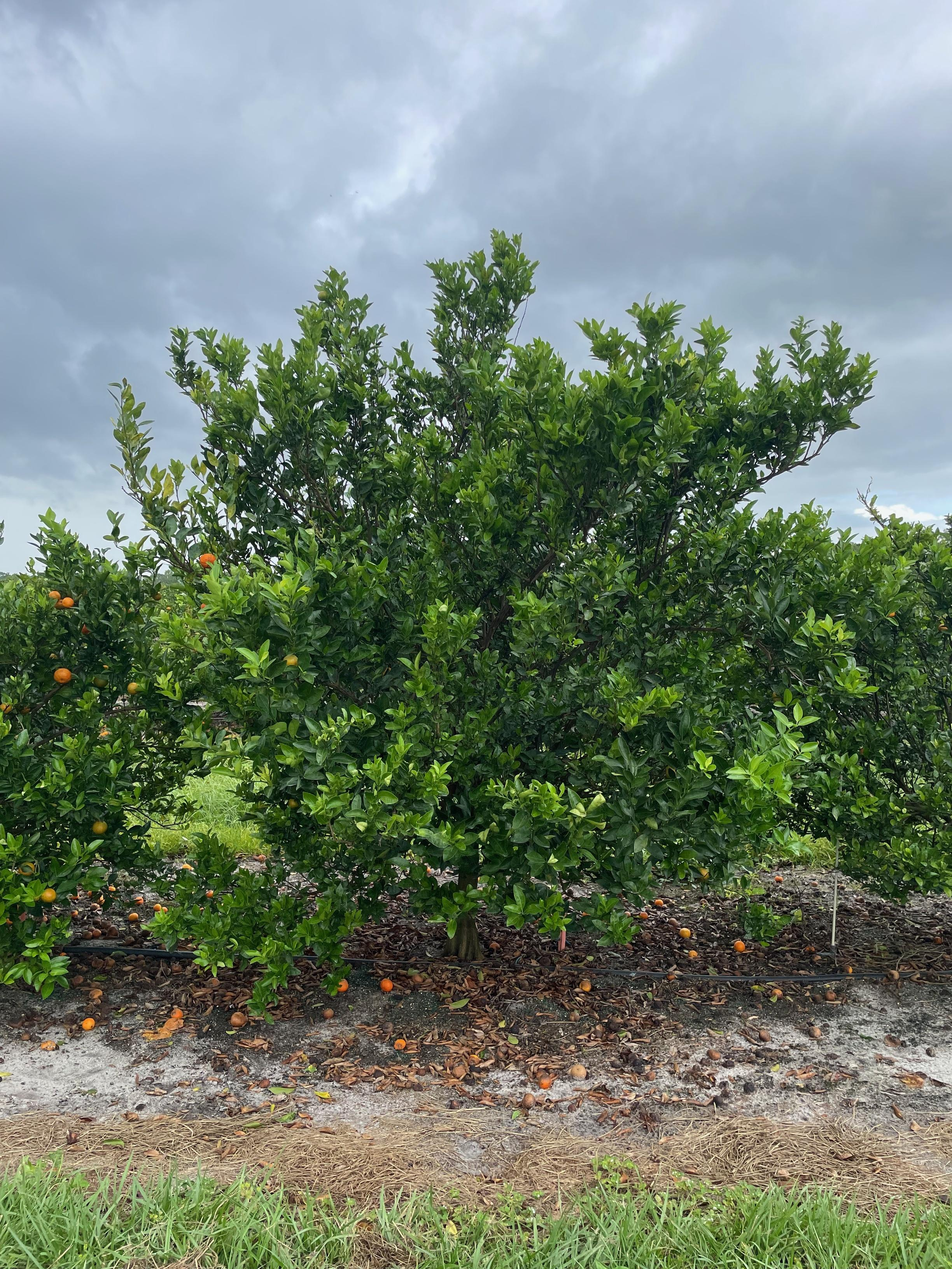fruit_on_ground: (52, 664, 74, 685), (280, 651, 301, 671), (198, 551, 219, 570), (38, 886, 58, 905), (17, 860, 37, 878), (90, 818, 109, 836), (0, 697, 17, 716), (92, 673, 110, 689), (695, 866, 711, 883), (198, 600, 214, 617), (285, 795, 301, 811), (17, 699, 32, 716), (125, 680, 142, 695), (52, 596, 68, 611), (78, 621, 93, 636), (47, 589, 62, 603), (61, 595, 75, 609), (316, 289, 330, 302), (150, 589, 163, 602)
fruit_on_tree: (228, 1010, 249, 1028), (568, 1061, 588, 1079), (333, 977, 351, 994), (88, 986, 105, 1002), (520, 1091, 536, 1108), (537, 1074, 554, 1090), (378, 976, 394, 992), (80, 1016, 97, 1031), (320, 1006, 336, 1021), (169, 1006, 186, 1020), (578, 977, 593, 992), (393, 1037, 408, 1052), (706, 1047, 722, 1061), (70, 972, 85, 986), (807, 1025, 822, 1039), (732, 939, 747, 953), (678, 926, 693, 940), (758, 1028, 772, 1042), (410, 972, 425, 985), (886, 967, 900, 980), (665, 917, 680, 929), (841, 963, 854, 976), (824, 987, 837, 1000), (106, 926, 120, 938), (770, 987, 784, 999), (95, 893, 108, 905), (688, 947, 700, 960), (488, 939, 501, 951), (653, 896, 666, 908), (127, 911, 139, 923), (123, 935, 136, 946), (81, 930, 94, 941), (637, 908, 650, 919), (180, 861, 194, 871), (133, 895, 145, 906), (3, 915, 14, 926), (665, 970, 677, 980), (152, 902, 164, 912), (91, 928, 102, 938), (89, 902, 101, 911), (86, 888, 96, 898), (108, 883, 118, 893), (205, 888, 215, 898), (774, 874, 785, 883), (69, 909, 79, 918)
